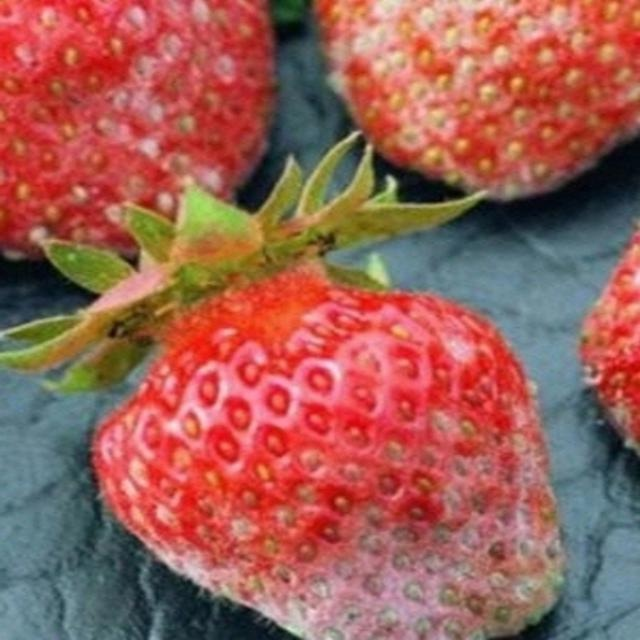Powdery Mildew Fruit: (88, 253, 573, 638), (2, 0, 278, 260), (305, 0, 640, 198)
